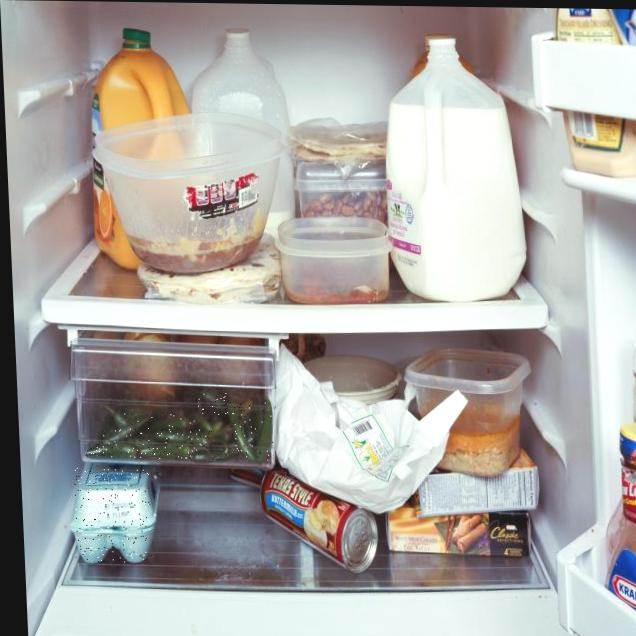eggs: (74, 468, 153, 563)
green chilies: (98, 413, 154, 443), (229, 402, 255, 461), (254, 400, 274, 462), (137, 444, 198, 461), (156, 430, 213, 448), (197, 393, 229, 420), (87, 444, 136, 458), (158, 414, 195, 430)
